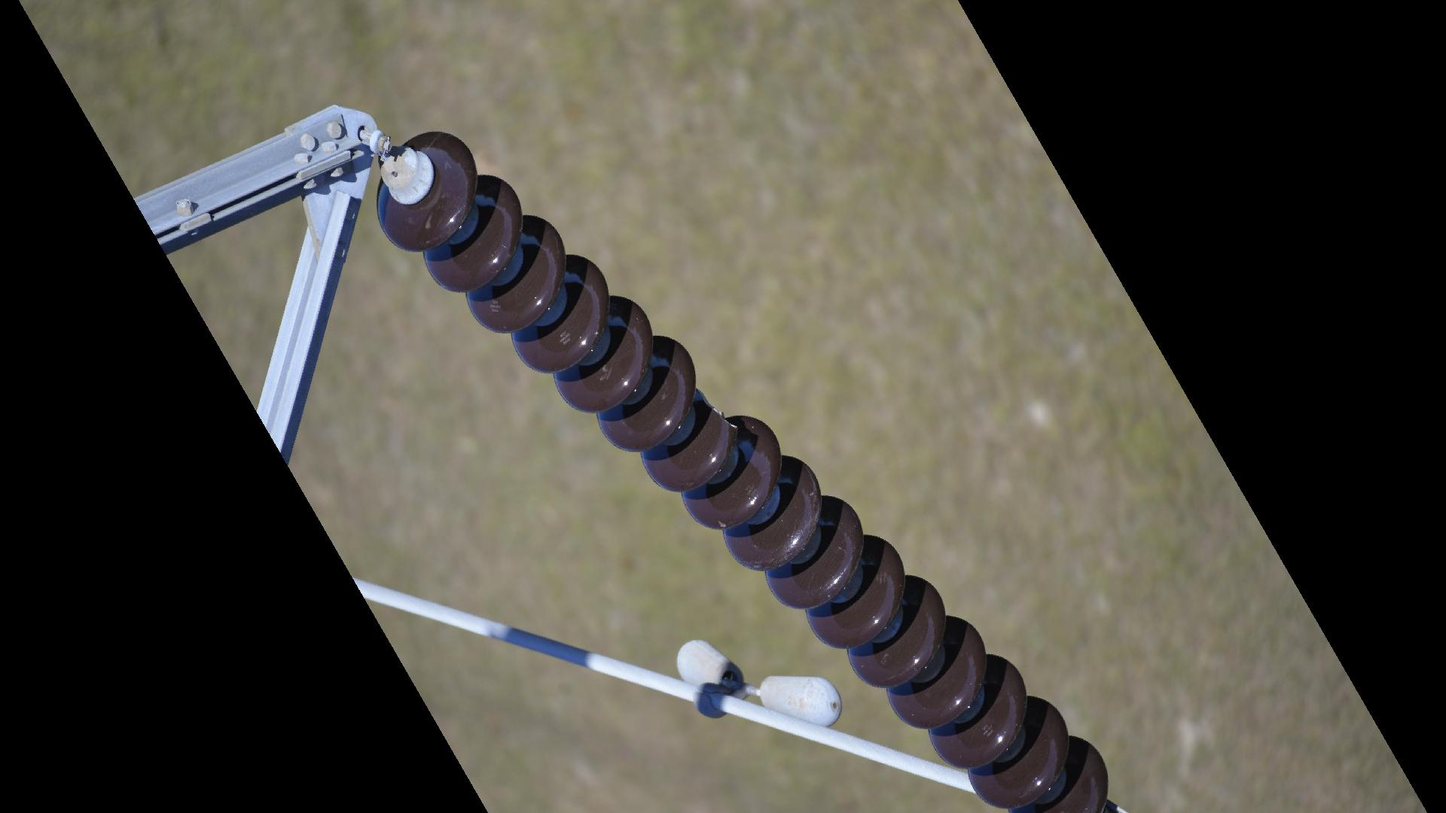insulator: (369, 126, 1111, 813)
insulator_breakage: (691, 382, 742, 438)
